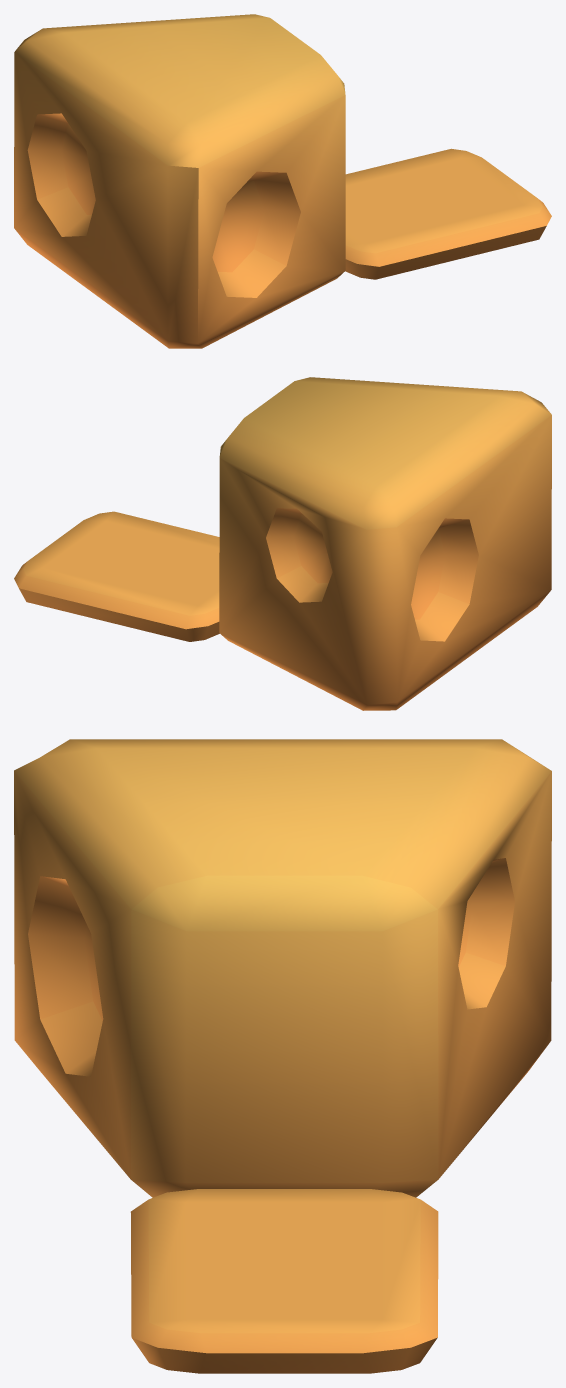
The model's file is ing_cheese_chopped.glb.
3 renders of one model, top to bottom at view 1: azimuth 30°, elevation 25°; view 2: azimuth 150°, elevation 25°; view 3: azimuth 270°, elevation 25°, orthographic. The views are drawn at different scales.
Parts seen in each view (by area): view 1: food_ingredient_cheese_chopped_Cube.011; view 2: food_ingredient_cheese_chopped_Cube.011; view 3: food_ingredient_cheese_chopped_Cube.011.
Boxes of the visible parts, x1,y1,x2,y2 form: food_ingredient_cheese_chopped_Cube.011: [14, 14, 551, 348]; food_ingredient_cheese_chopped_Cube.011: [14, 377, 551, 710]; food_ingredient_cheese_chopped_Cube.011: [14, 739, 551, 1373].
Bounding box in the file's own units: 1.02 × 0.5 × 0.722.
1 material, 1 textured.
